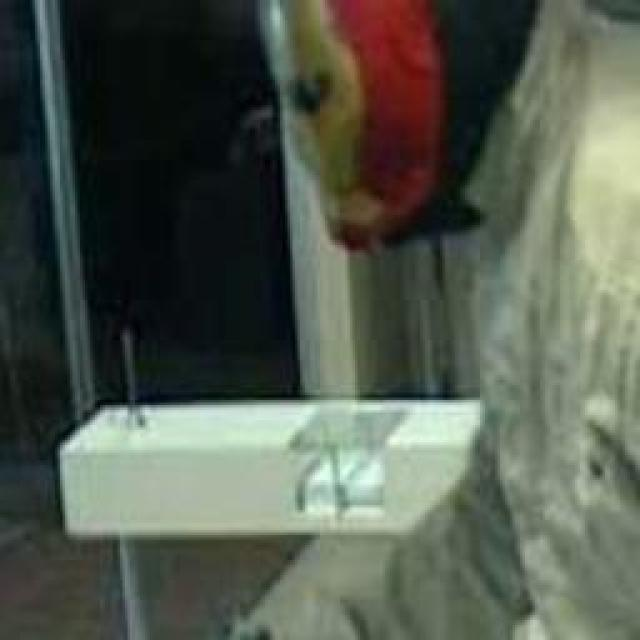Guns: (98, 585, 370, 640)
